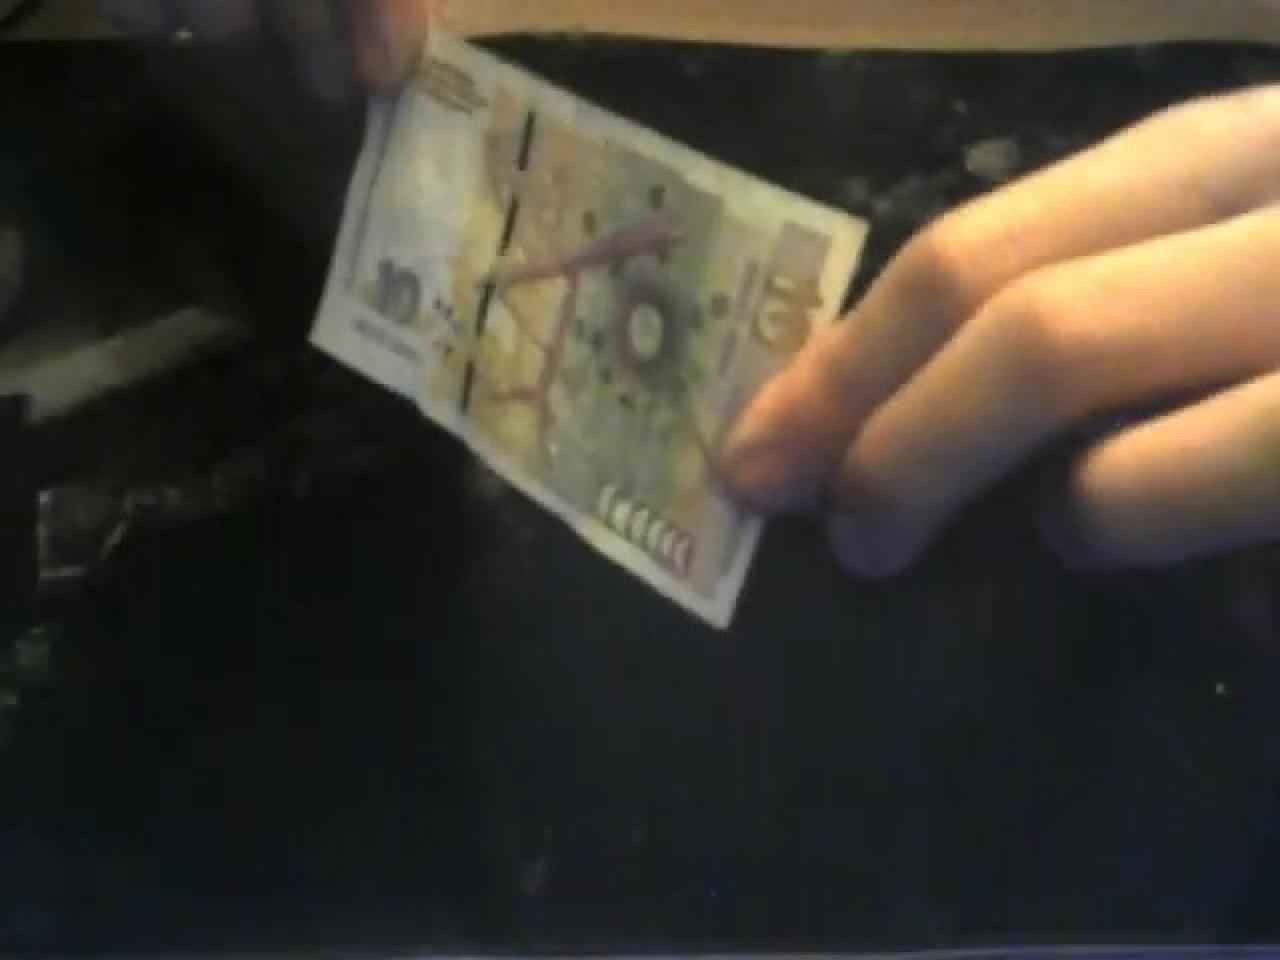10leva: (308, 34, 872, 632), (308, 34, 870, 632)
